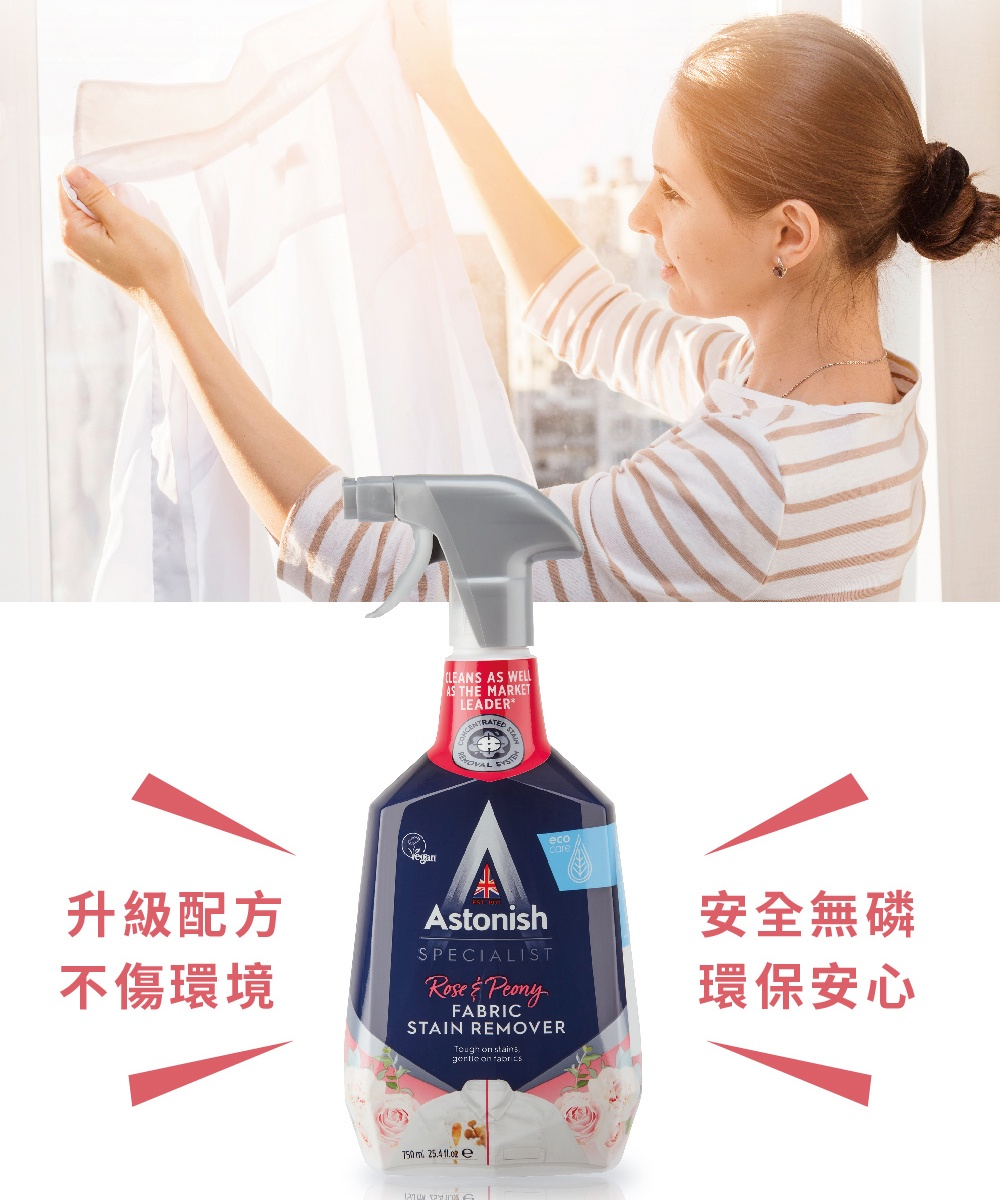cleaner: (326, 471, 656, 1188)
